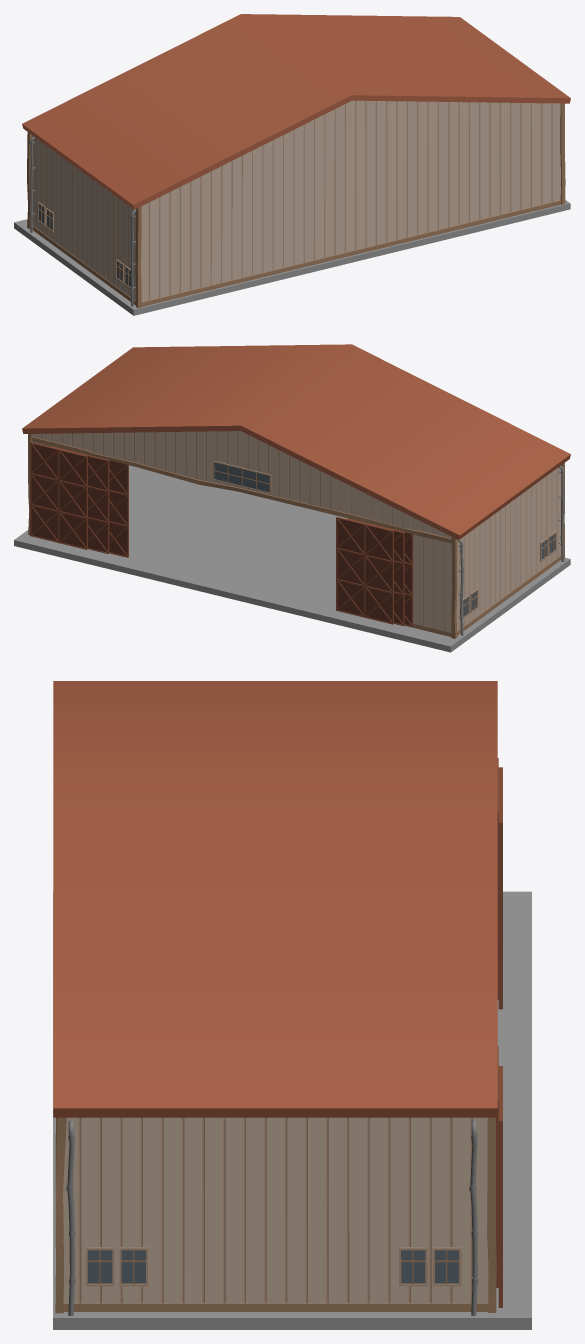
File: 20C_hangar02.fbx
3 renders of one model, top to bottom at view 1: azimuth 30°, elevation 25°; view 2: azimuth 150°, elevation 25°; view 3: azimuth 270°, elevation 25°, orthographic. The views are drawn at different scales.
Parts seen in each view (by area): view 1: 20C_hangar02; view 2: 20C_hangar02; view 3: 20C_hangar02.
Boxes of the visible parts, x1,y1,x2,y2 form: 20C_hangar02: [14, 14, 570, 315]; 20C_hangar02: [14, 344, 570, 652]; 20C_hangar02: [53, 681, 531, 1329].
Size of the model in its own units: 347 by 127 by 164.
Materials: 1 (1 with a texture image).
